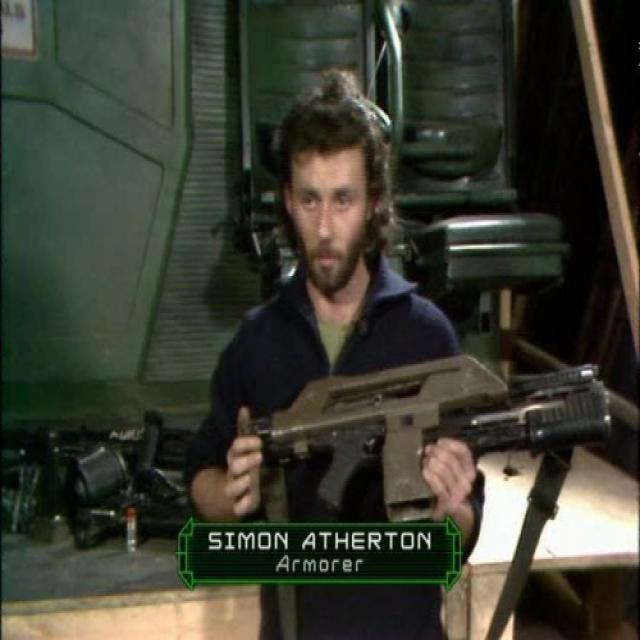rifle: (253, 346, 619, 533)
